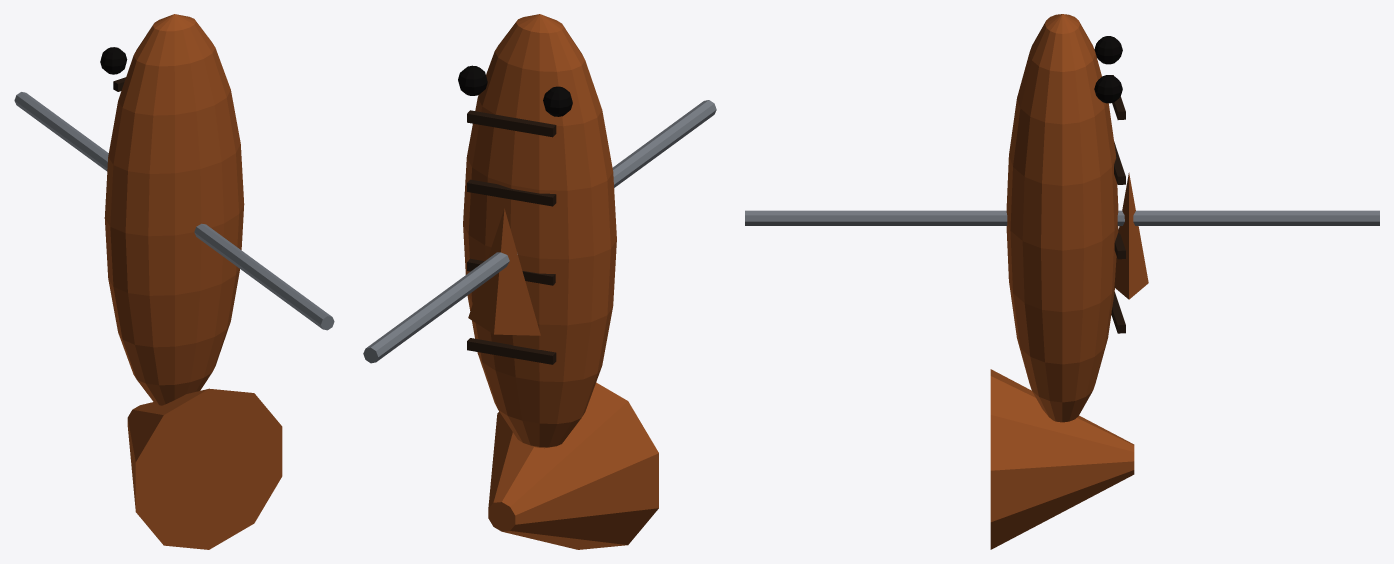
Rendered from GrilledFish.obj.
The picture shows the model from 3 angles, left to right: view 1: azimuth 30°, elevation 25°; view 2: azimuth 150°, elevation 25°; view 3: azimuth 270°, elevation 25°; orthographic projection. The views are drawn at different scales.
Visible parts, largest first — view 1: Sphere, Cone, Cylinder, Sphere.002; view 2: Sphere, Cone, Cylinder, Cone.001, Cube.003, Cube, Cube.002, Sphere.002, Sphere.003, Cube.001; view 3: Sphere, Cone, Cylinder, Cone.001.
Part boxes in pixels (x1,y1,x2,y2): Sphere: (104,14,244,405); Cone: (127,388,282,549); Cylinder: (14,92,334,330); Sphere.002: (100,47,127,74); Sphere: (463,14,616,448); Cone: (488,382,658,549); Cylinder: (363,100,716,363); Cone.001: (468,208,540,335); Cube.003: (467,110,556,137); Cube: (467,338,556,364); Cube.002: (467,179,556,206); Sphere.002: (543,86,572,116); Sphere.003: (458,65,487,95); Cube.001: (467,258,555,285); Sphere: (1006,14,1118,422); Cone: (990,369,1134,549); Cylinder: (745,210,1379,225); Cone.001: (1114,172,1148,299).
Bounding box in the file's own units: 0.1712 × 0.57 × 0.62.
